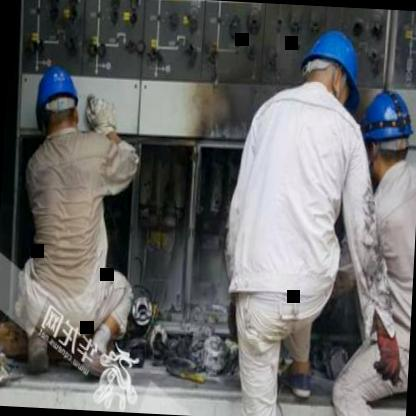helmet: (295, 22, 364, 116), (358, 85, 414, 182), (33, 63, 83, 142)
